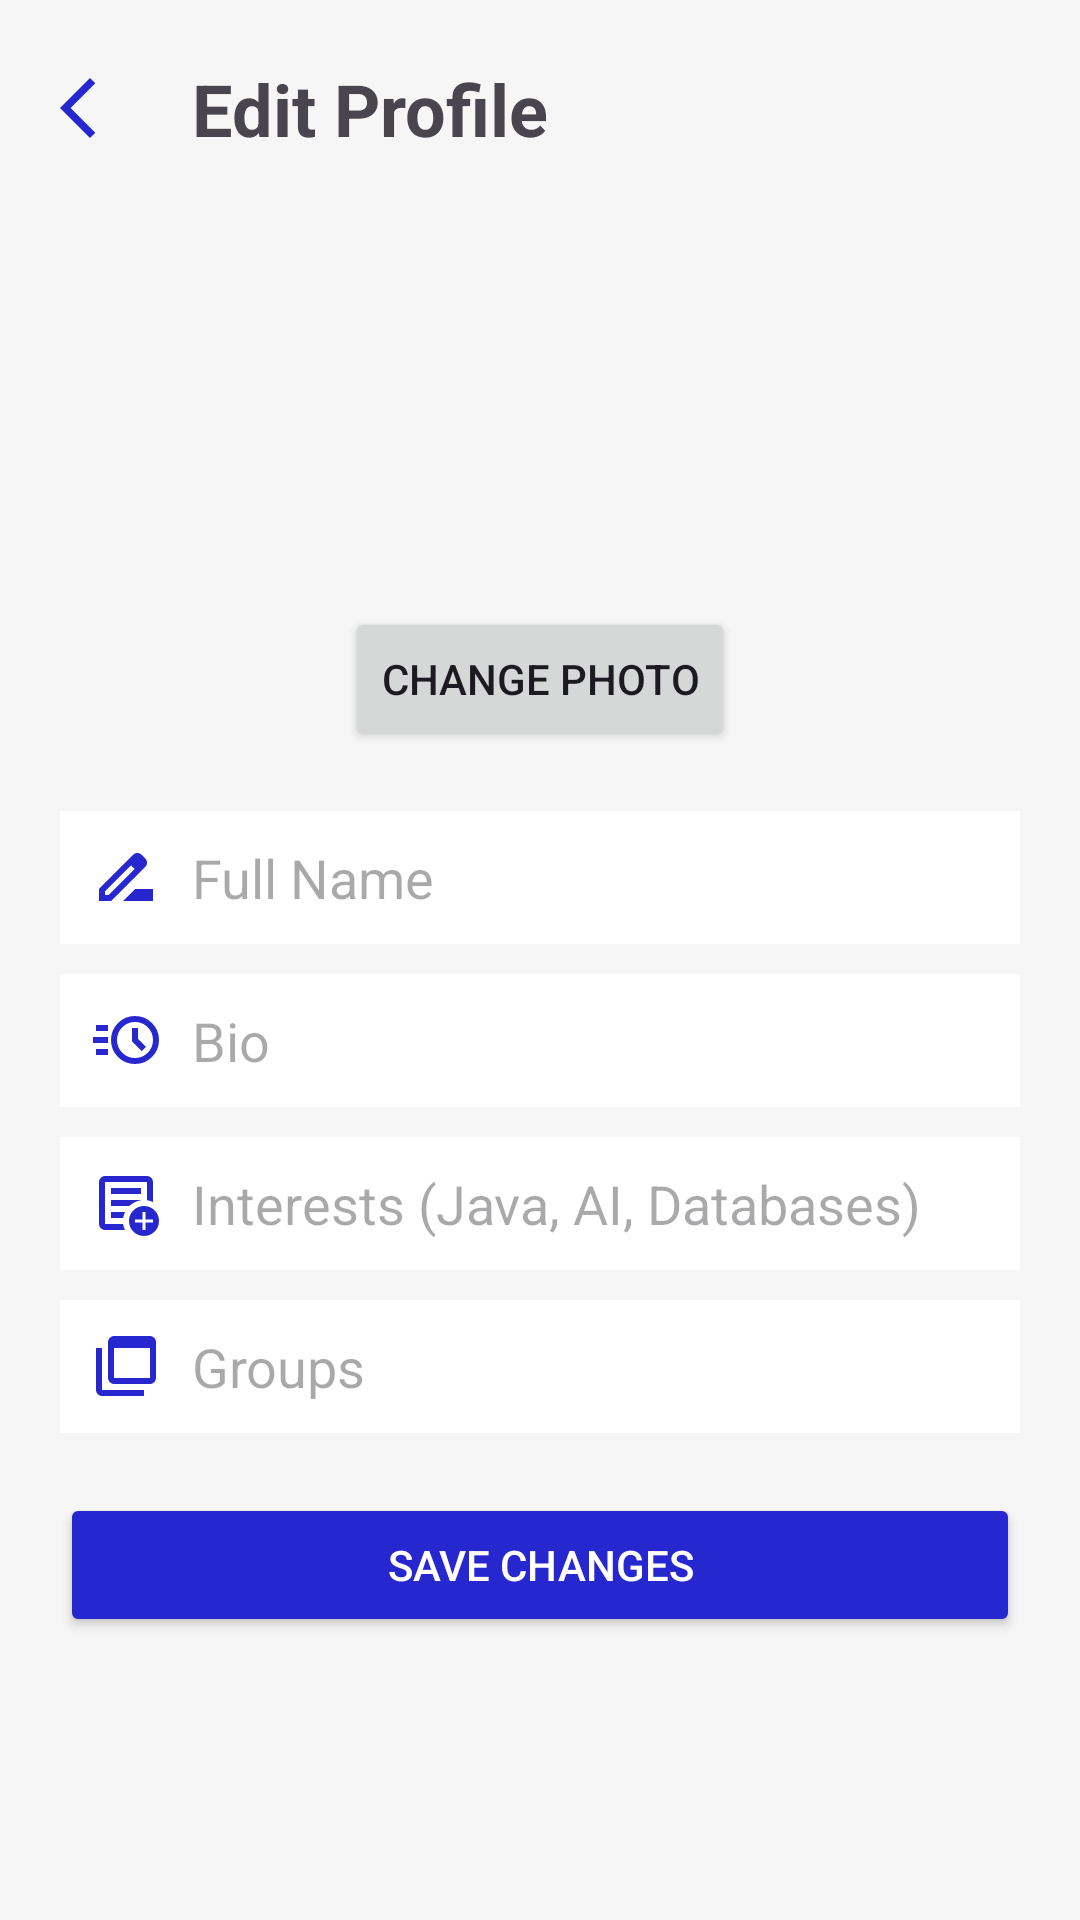

Screen size 1080 x 1920. Icon name, then its box in pixels as (x1, y1, x2, y2):
Retour: (60, 78, 95, 138)
